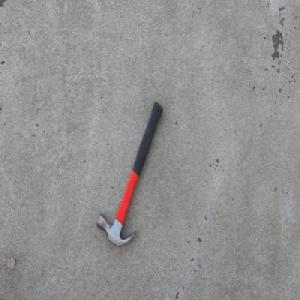Hammer: (95, 100, 163, 248)
